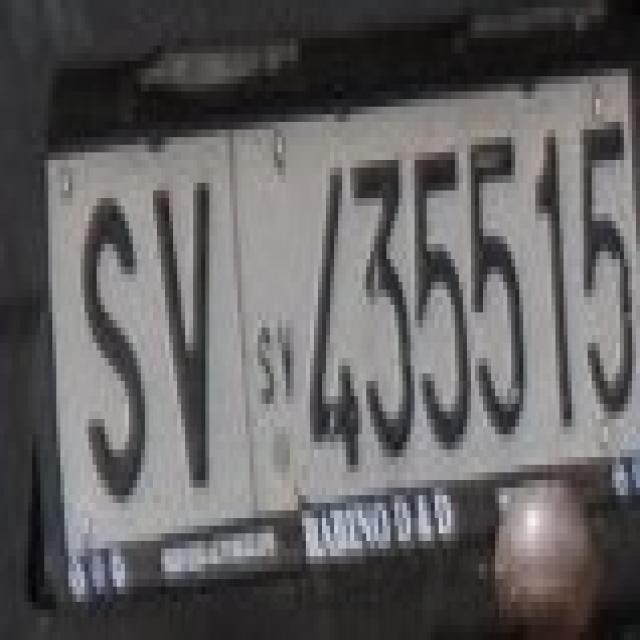1: (519, 114, 576, 427)
3: (342, 130, 415, 458)
4: (286, 137, 362, 465)
5: (394, 114, 482, 434), (559, 99, 632, 419), (458, 114, 524, 427)
S: (64, 175, 149, 503)
V: (141, 160, 217, 488)
